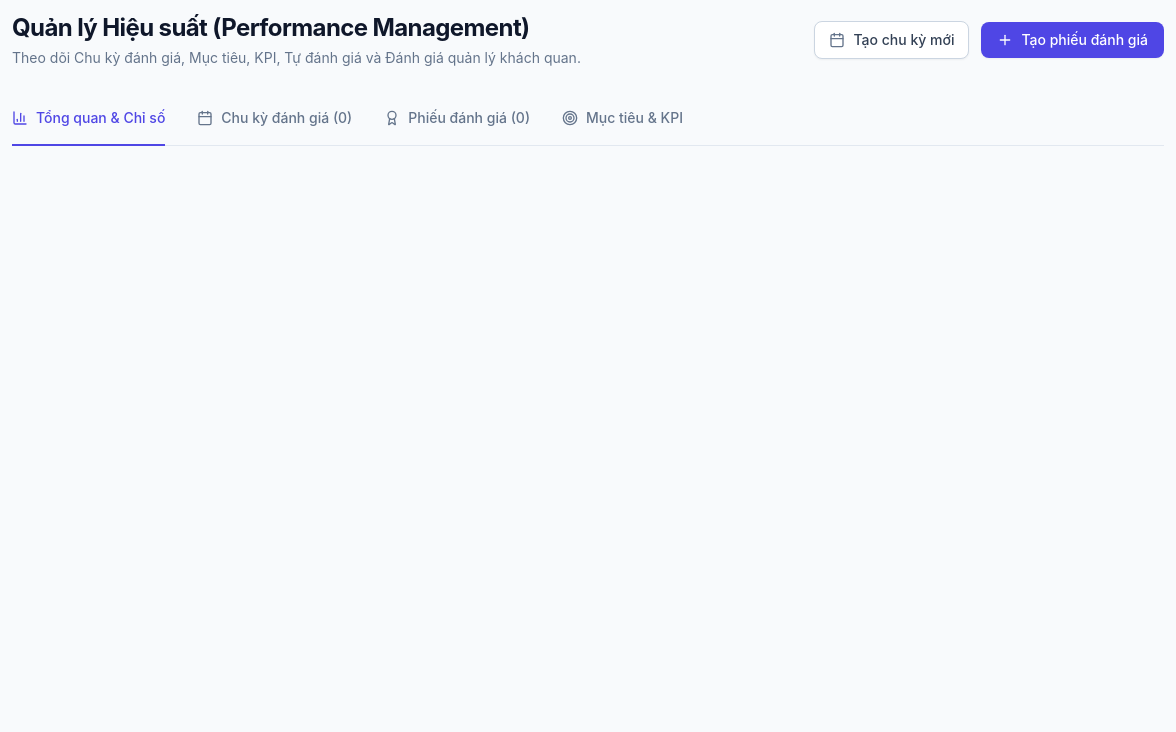
PerformancePage & Employee Review UI › navigates to Mục tiêu & KPI tab and renders goals and kpis
Click the button "Mục tiêu & KPI": (622, 119) [562, 92, 683, 146]
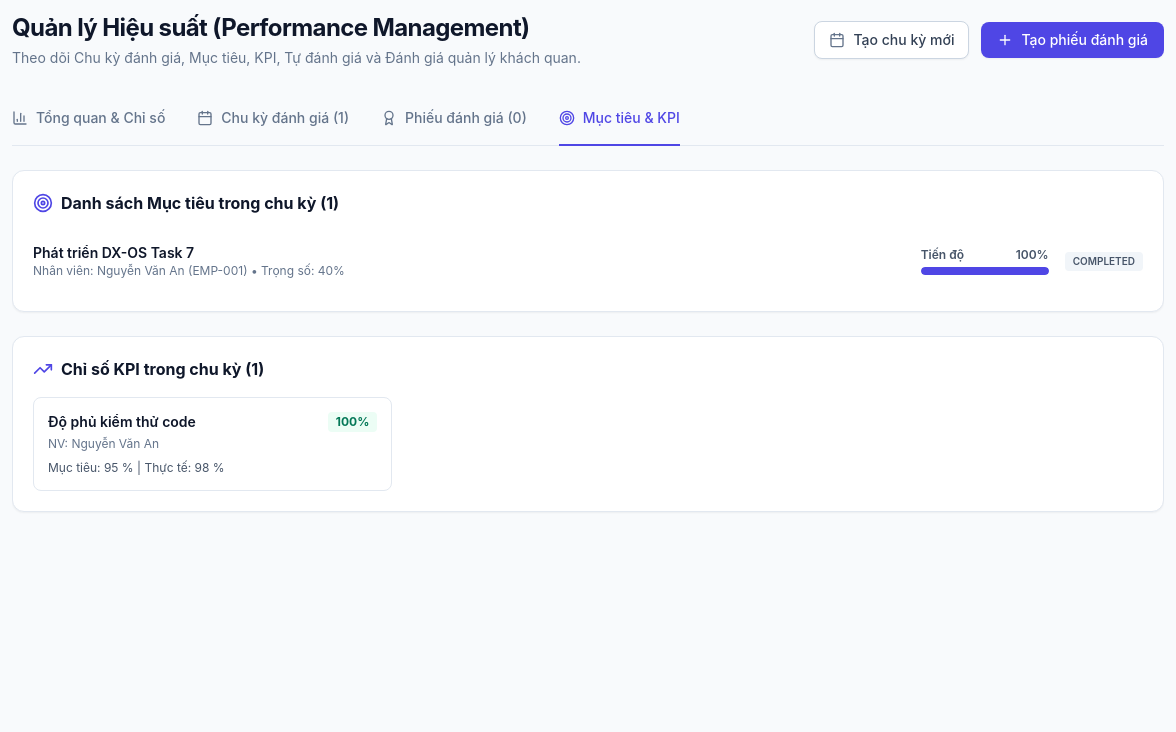
Now the text "Phát triển DX-OS Task 7" is shown, box [33, 244, 194, 261]
Now the text "Độ phủ kiểm thử code" is shown, box [48, 412, 196, 432]
